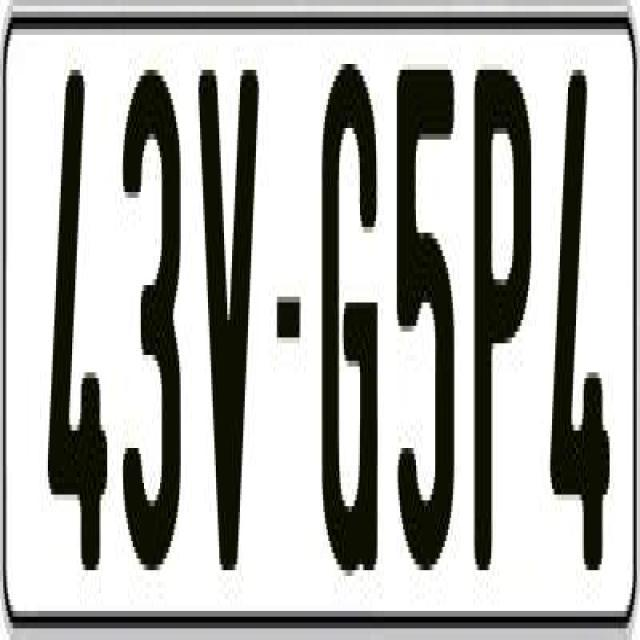3: (120, 63, 179, 600)
4: (548, 70, 614, 594), (48, 70, 110, 582)
5: (397, 70, 461, 582)
G: (316, 58, 378, 599)
P: (472, 52, 533, 570)
V: (196, 58, 266, 594)
